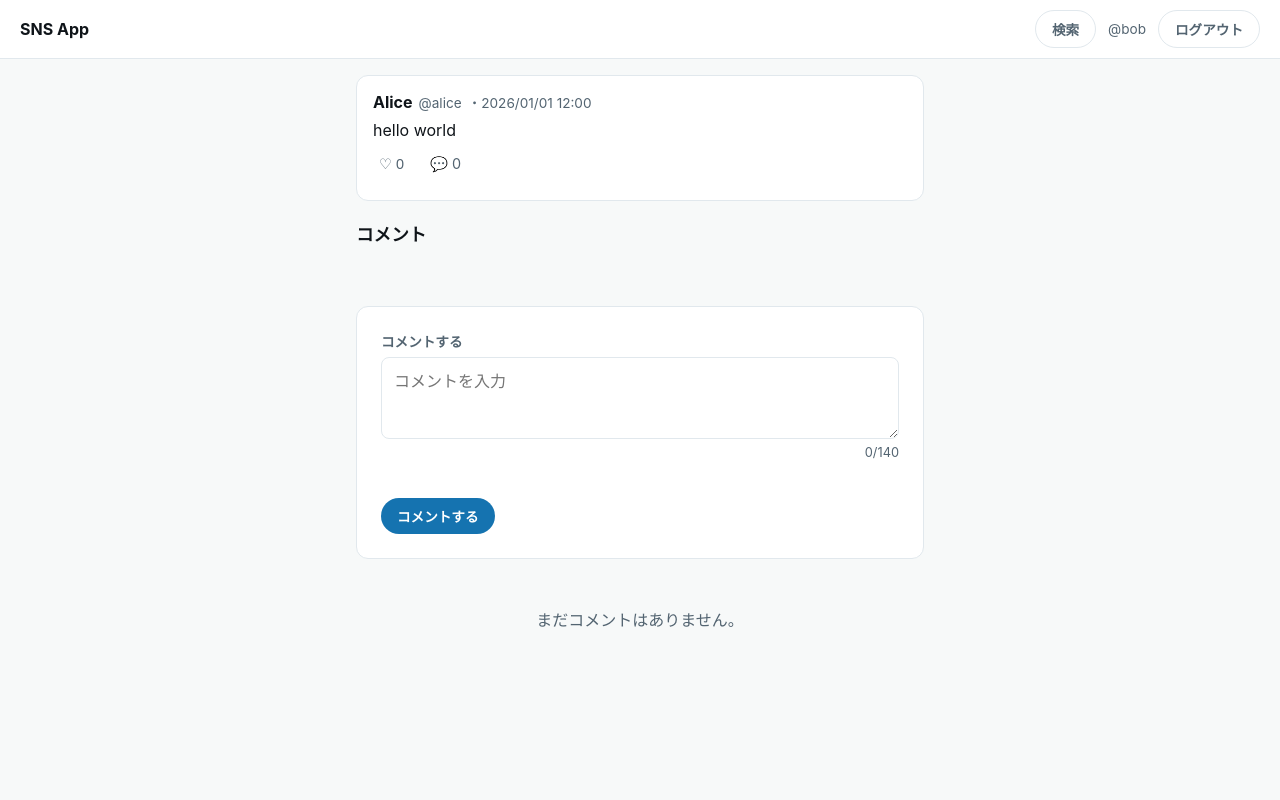
Test case: PostDetailPage › clicking the like button toggles like state and count
The image size is (1280, 800).
What coordinates should you click on to do the following:
click the button "♡ 0"
I would click on:
 (391, 164)
Its box is [373,152,410,176].
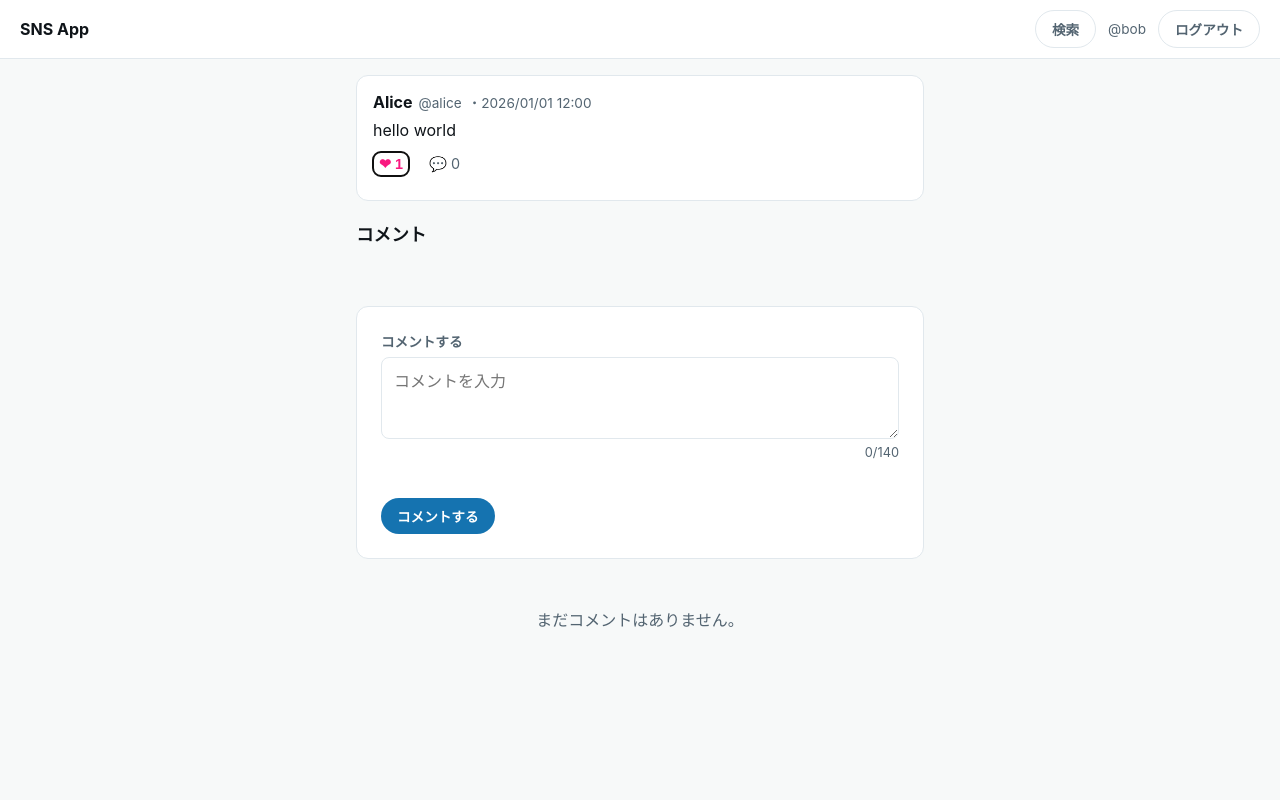
Expected: the button "❤ 1" is shown, [373,152,409,176]
